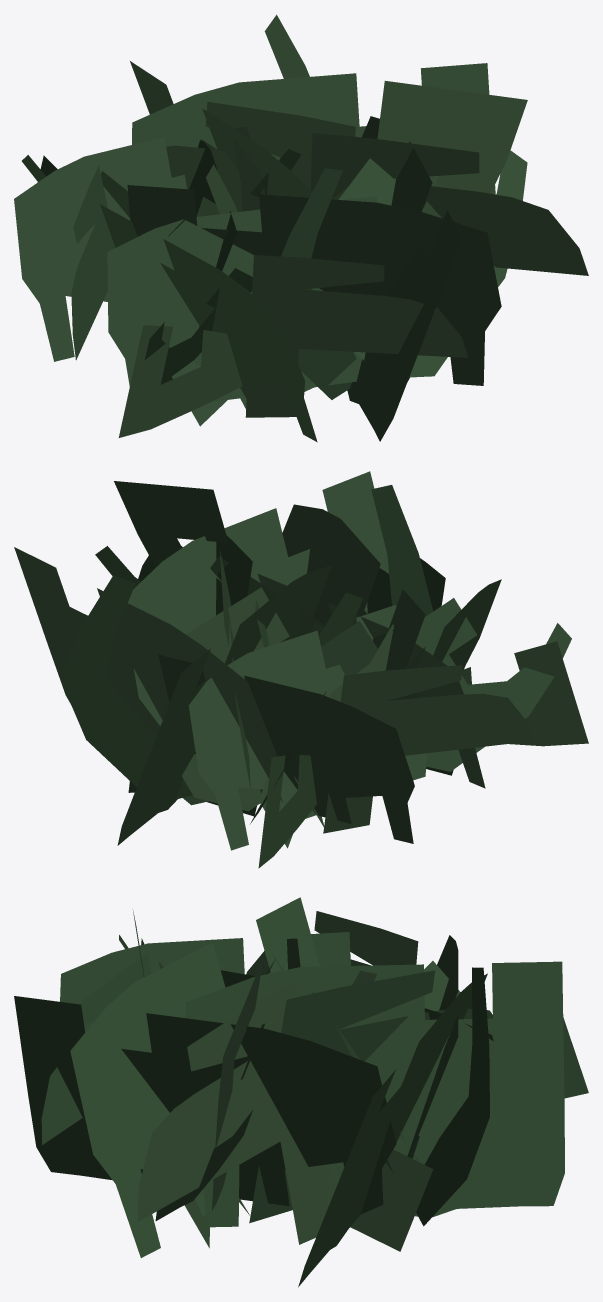
Rendered from SM_ocean_scatterPlant_02_D.fbx.
The picture shows the model from 3 angles, top to bottom: view 1: azimuth 30°, elevation 25°; view 2: azimuth 150°, elevation 25°; view 3: azimuth 270°, elevation 25°; orthographic projection. The views are drawn at different scales.
Parts seen in each view (by area): view 1: SM_ocean_scatterPlant_02_D_LOD0; view 2: SM_ocean_scatterPlant_02_D_LOD0; view 3: SM_ocean_scatterPlant_02_D_LOD0.
Boxes of the visible parts, x1,y1,x2,y2 form: SM_ocean_scatterPlant_02_D_LOD0: [14, 14, 588, 442]; SM_ocean_scatterPlant_02_D_LOD0: [14, 471, 588, 868]; SM_ocean_scatterPlant_02_D_LOD0: [14, 897, 588, 1287].
Size of what is drawn, in the model's own units: 89.26 by 88.61 by 50.
